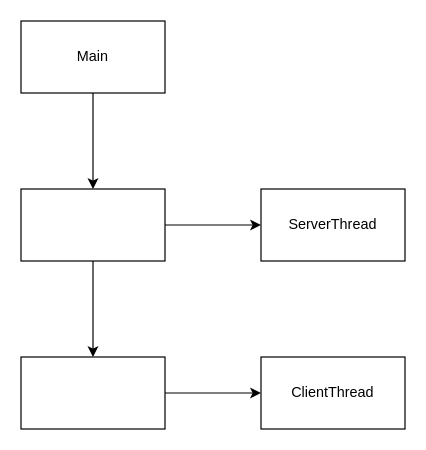
The diagram is 426 pixels wide and 450 high, and some of its shapes have lost their labels. The centre of each missing label's shape, as x and y in pixels:
"ChatClient" belongs at point (92, 392).
"ChatServer" belongs at point (92, 224).
